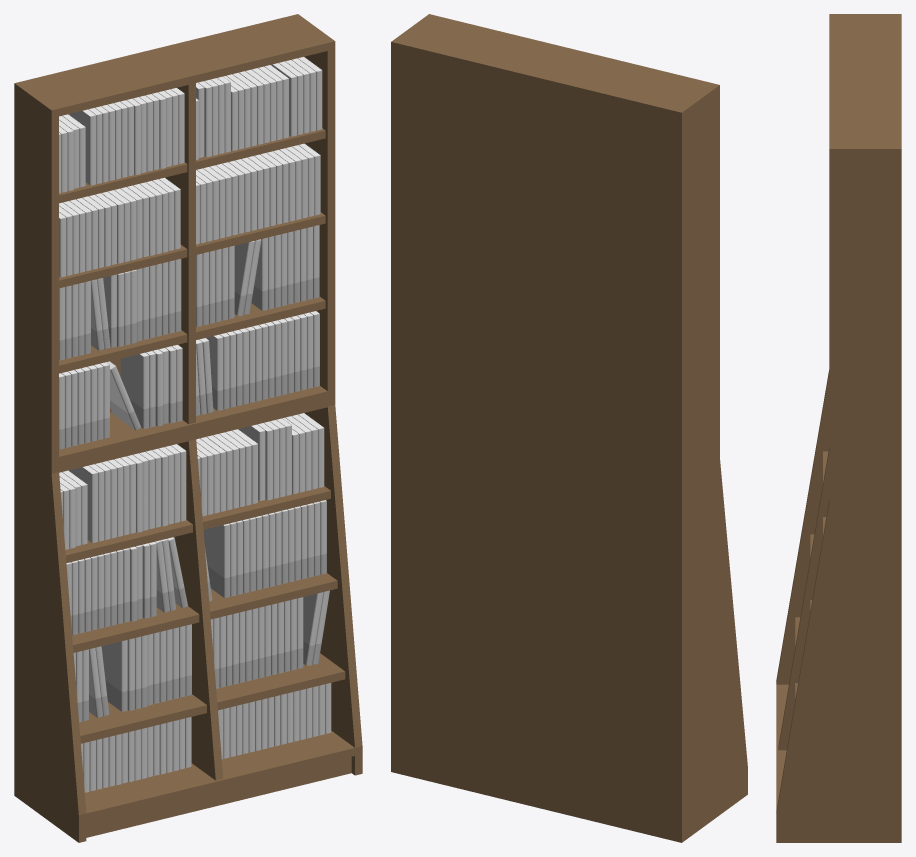
File: 745_bookshelf_filled.glb
3 renders of one model, left to right at view 1: azimuth 30°, elevation 25°; view 2: azimuth 150°, elevation 25°; view 3: azimuth 270°, elevation 25°, orthographic. The views are drawn at different scales.
Parts seen in each view (by area): view 1: 2, 1; view 2: 1, 2; view 3: 2, 1.
Part boxes in pixels (x1=…): 2: x1=14, y1=397, x2=362, y2=842; 1: x1=14, y1=14, x2=335, y2=466; 1: x1=391, y1=14, x2=719, y2=477; 2: x1=391, y1=407, x2=747, y2=842; 2: x1=776, y1=370, x2=901, y2=842; 1: x1=829, y1=14, x2=901, y2=495.
Bounding box in the file's own units: 0.75 × 1.8 × 0.295.
